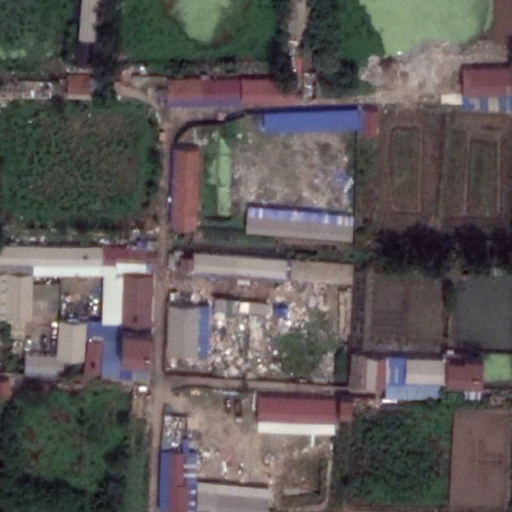msw: (208, 301, 310, 377)
